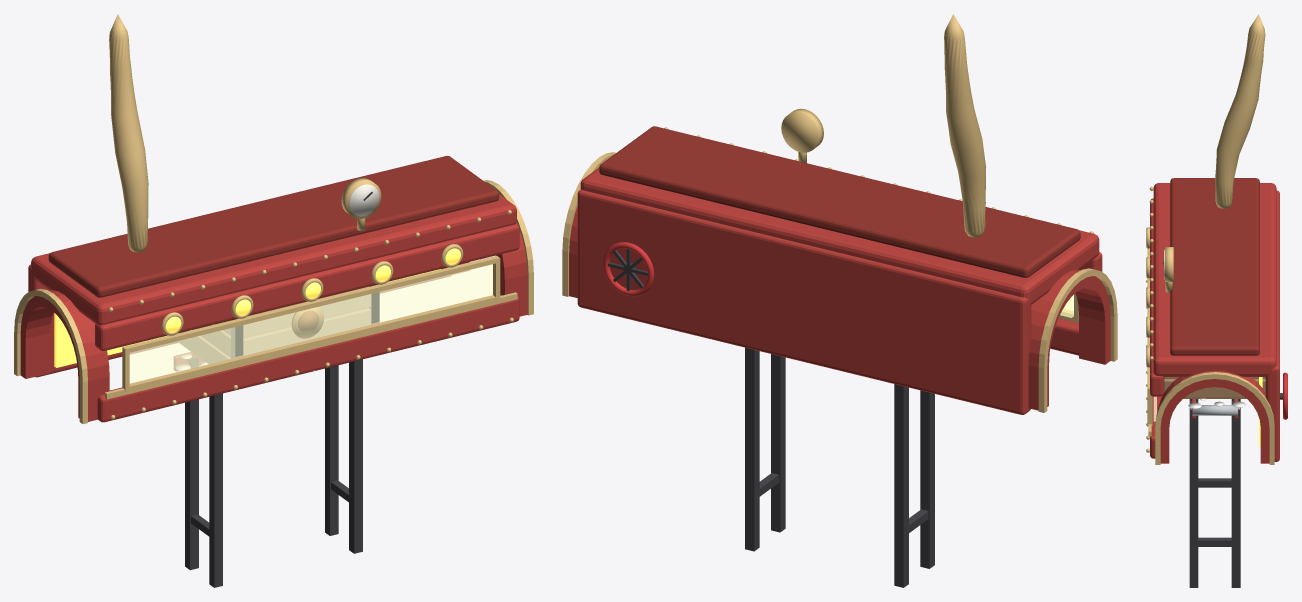
Rendered from bakery.glb.
3 views of the same model, side by side, from view 1: azimuth 30°, elevation 25°; view 2: azimuth 150°, elevation 25°; view 3: azimuth 270°, elevation 25° (orthographic). The views are drawn at different scales.
Visible parts, largest first — view 1: OvenTunnel, ConveyorFrame, CoinCrate, OvenGlow; view 2: OvenTunnel, ConveyorFrame; view 3: OvenTunnel, ConveyorFrame, CoinCrate, FlourDust.
Boxes of the visible parts, left/top/right/bottom form: OvenTunnel: left=14, top=14, right=533, bottom=423; ConveyorFrame: left=174, top=352, right=362, bottom=587; CoinCrate: left=177, top=284, right=379, bottom=363; OvenGlow: left=54, top=269, right=440, bottom=367; OvenTunnel: left=562, top=14, right=1117, bottom=414; ConveyorFrame: left=745, top=347, right=934, bottom=587; OvenTunnel: left=1146, top=14, right=1287, bottom=464; ConveyorFrame: left=1189, top=399, right=1240, bottom=587; CoinCrate: left=1164, top=377, right=1265, bottom=398; FlourDust: left=1188, top=398, right=1246, bottom=408.
Size of the model in its own units: 2.58 by 3.05 by 0.8063.
